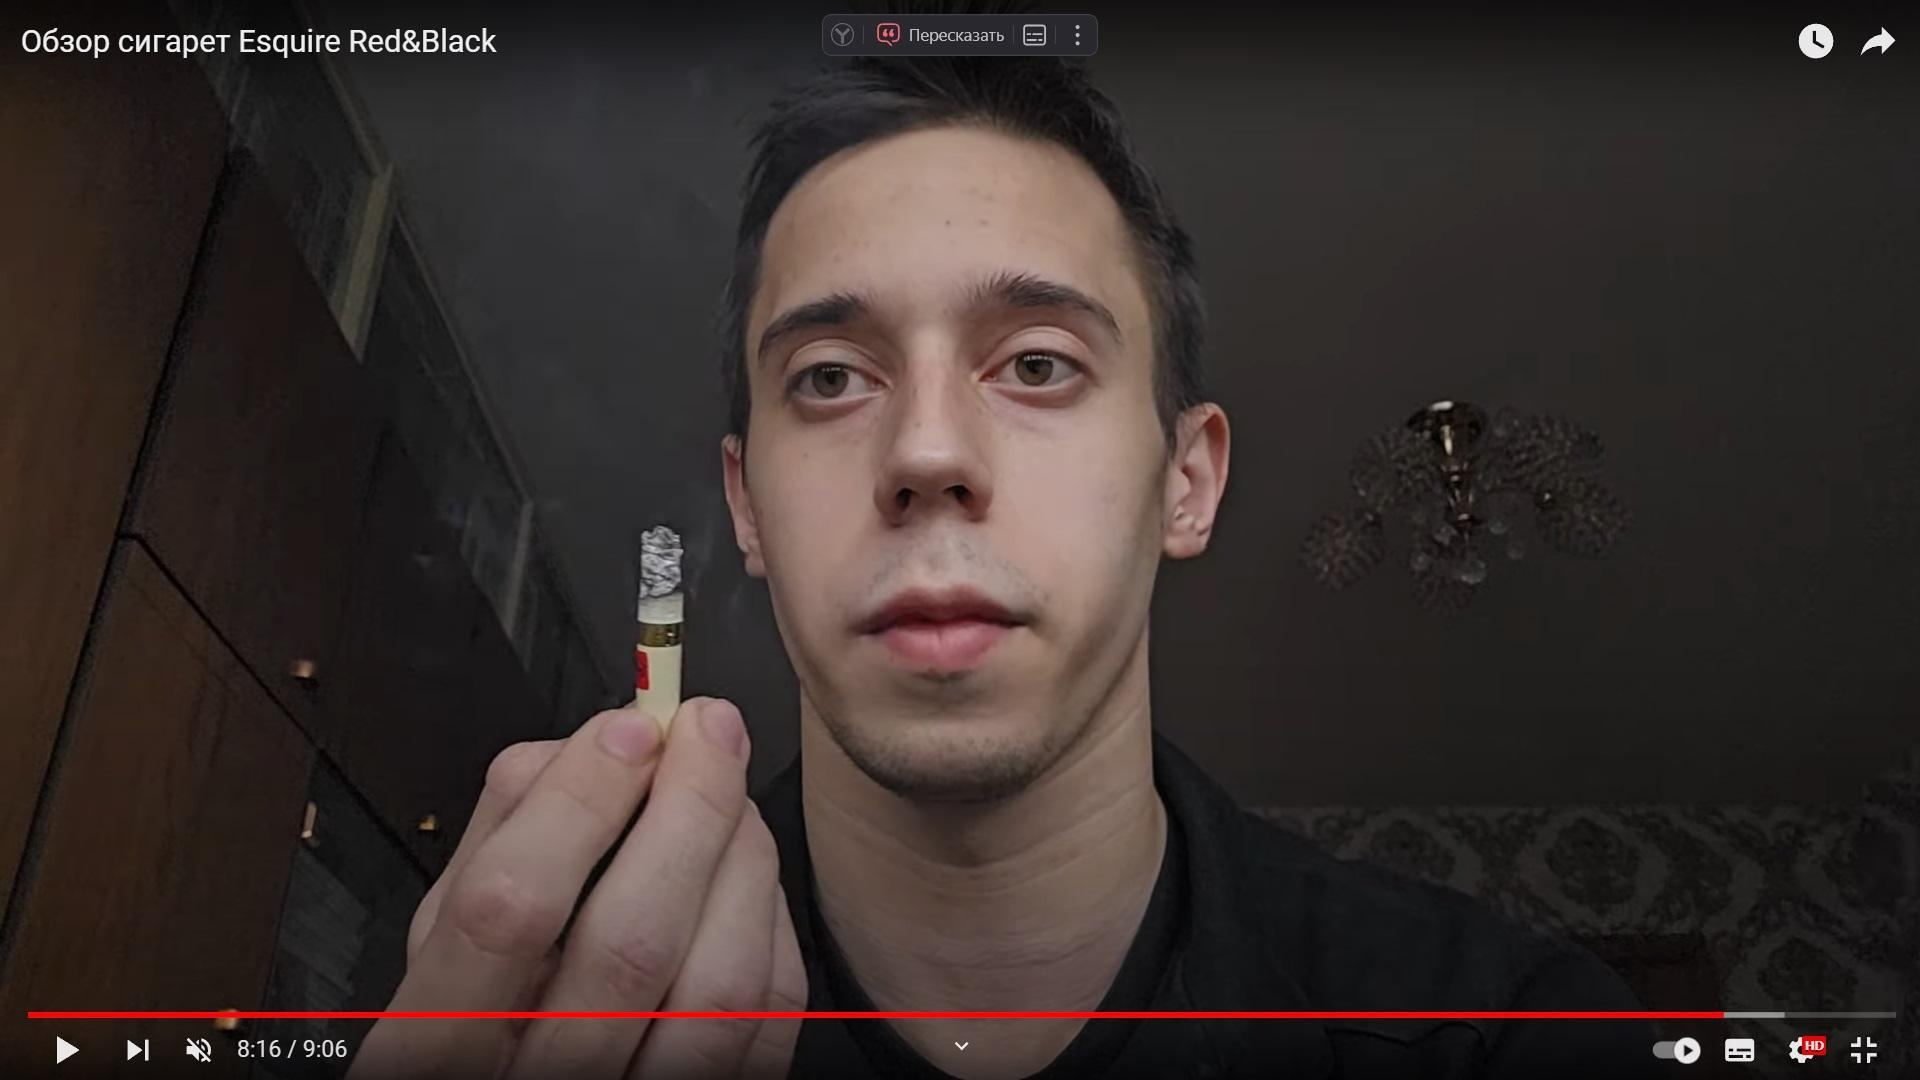cigarette: (636, 526, 684, 742)
